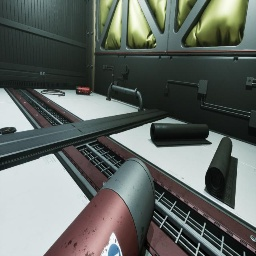FireExtinguisher ]: (76, 86, 94, 95)
NitrogenTank ,: (43, 158, 156, 256)
